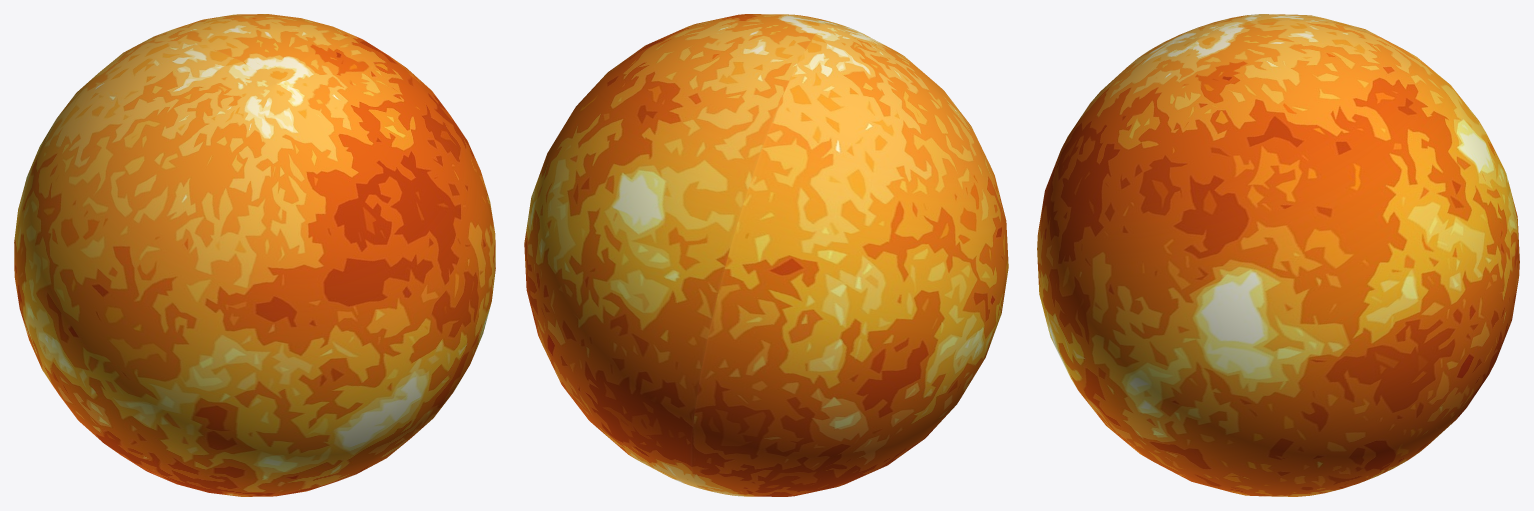
Rendered from sun.glb.
3 views of the same model, side by side, from view 1: azimuth 30°, elevation 25°; view 2: azimuth 150°, elevation 25°; view 3: azimuth 270°, elevation 25° (orthographic).
Parts seen in each view (by area): view 1: Sun; view 2: Sun; view 3: Sun.
Part boxes in pixels (bbox=[...]): Sun: bbox=[14, 14, 495, 496]; Sun: bbox=[524, 14, 1008, 496]; Sun: bbox=[1037, 14, 1519, 496].
Size of the model in its own units: 8.79 by 8.84 by 8.82.
1 material, 1 textured.
